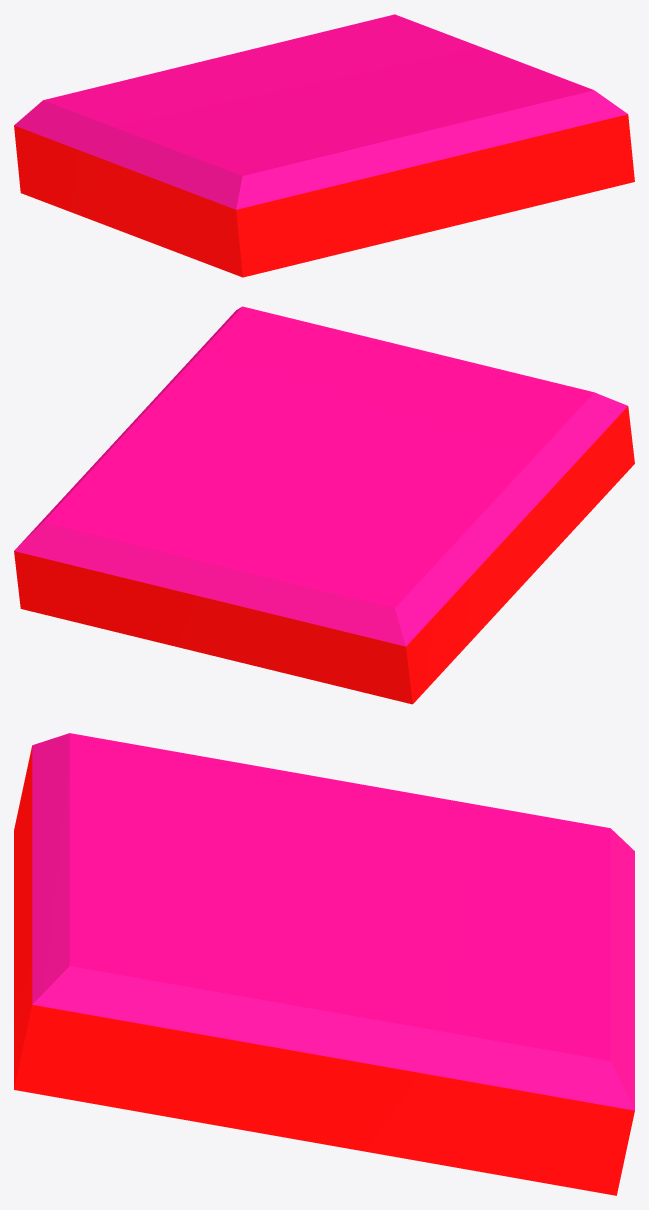
The model's file is ButtonG.glb.
The picture shows the model from 3 angles, top to bottom: view 1: azimuth 30°, elevation 25°; view 2: azimuth 150°, elevation 25°; view 3: azimuth 270°, elevation 25°; orthographic projection. The views are drawn at different scales.
Visible parts, largest first — view 1: ButtonG; view 2: ButtonG; view 3: ButtonG.
Boxes of the visible parts, x1,y1,x2,y2 form: ButtonG: (14, 14, 634, 277); ButtonG: (14, 306, 634, 704); ButtonG: (14, 733, 634, 1195).
Bounding box in the file's own units: 0.5336 × 0.2077 × 0.5397.
Materials: 1 (1 with a texture image).
